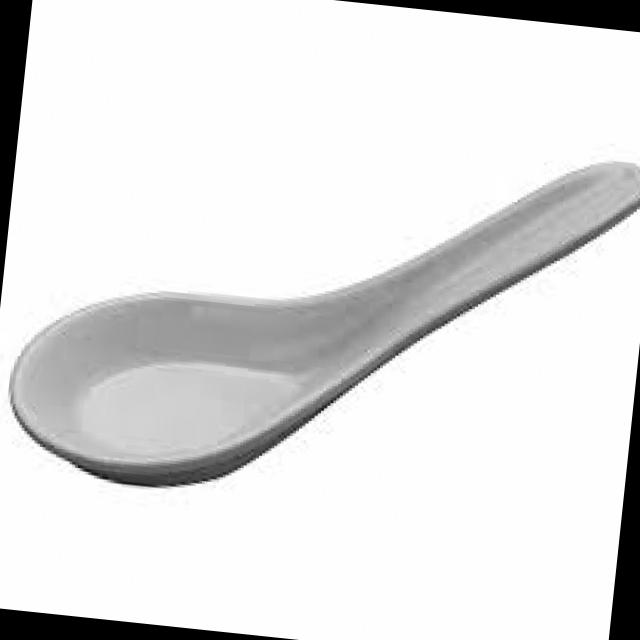spoon: (0, 77, 640, 598)
